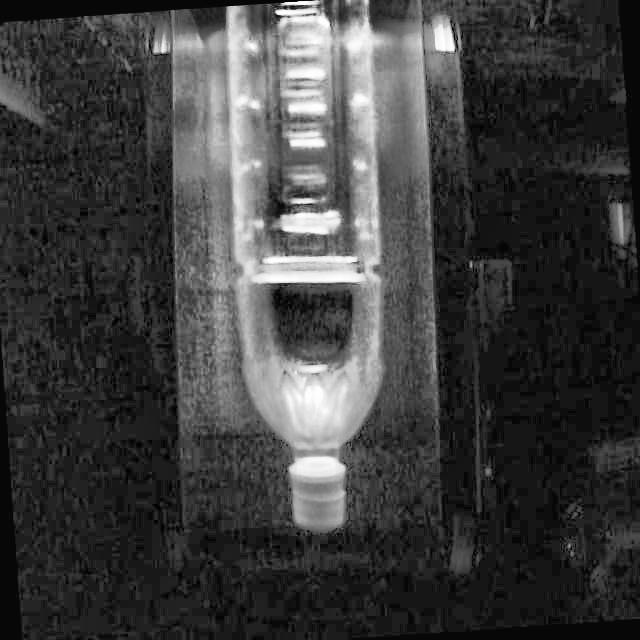plastic bottle: (226, 0, 383, 530)
